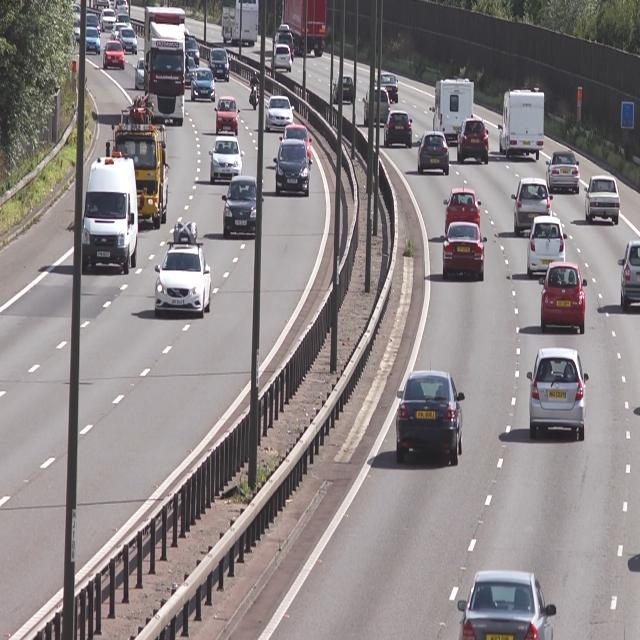Vehicle: (78, 146, 140, 279), (112, 98, 167, 227), (396, 366, 466, 467), (458, 570, 555, 640), (151, 220, 213, 321), (526, 344, 591, 440), (143, 8, 184, 125), (496, 86, 546, 159), (540, 264, 586, 332), (430, 77, 476, 143), (524, 217, 570, 277), (219, 170, 260, 236), (441, 224, 487, 281), (511, 175, 551, 233), (272, 138, 309, 195), (582, 173, 620, 225), (204, 137, 245, 185), (442, 187, 482, 232), (458, 117, 490, 167), (417, 130, 450, 178), (546, 151, 580, 194), (263, 92, 292, 135), (362, 85, 390, 129), (383, 110, 411, 149), (214, 95, 241, 133), (189, 68, 214, 104), (99, 42, 125, 75)
